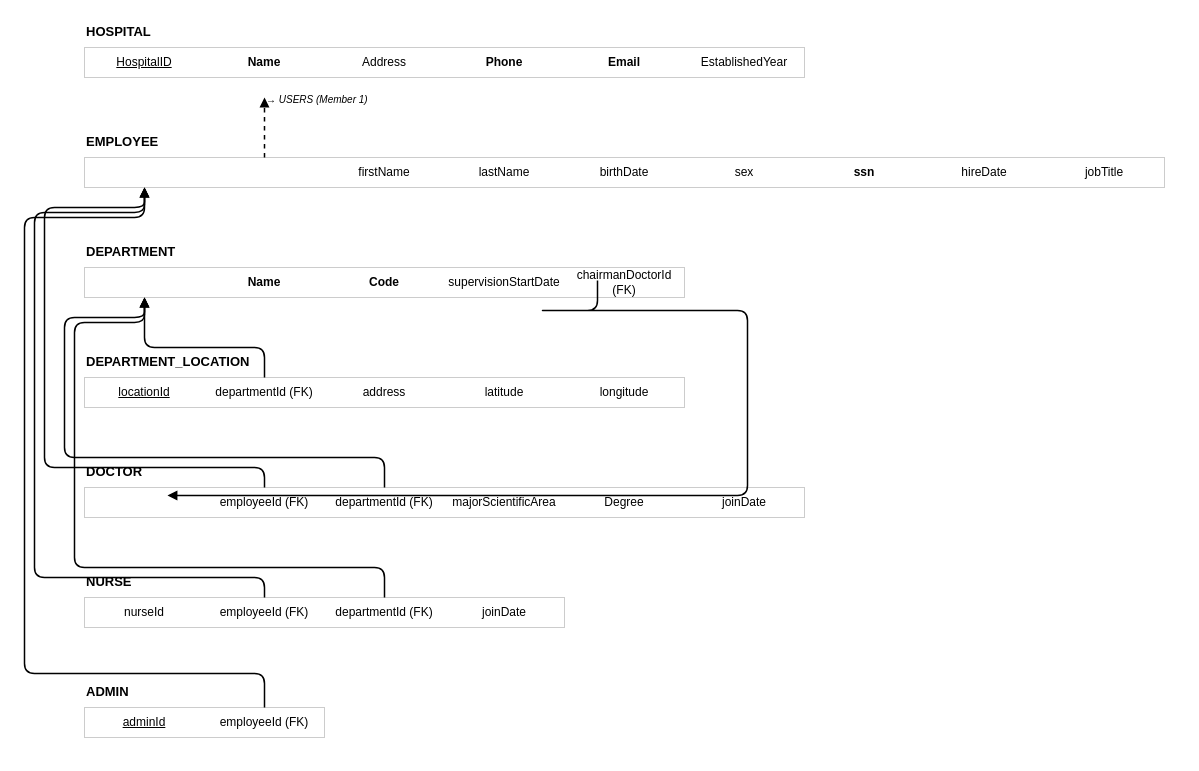
Some shapes in this 1199 by 771 pixel diagram are drawn without their labels. Here are the shapes that lost their labels. From the top down, the box of each, then its label:
(68, 140, 220, 204): employeeId
(188, 140, 340, 204): userId (FK)
(68, 250, 220, 314): departmentId
(68, 470, 220, 534): doctorId
